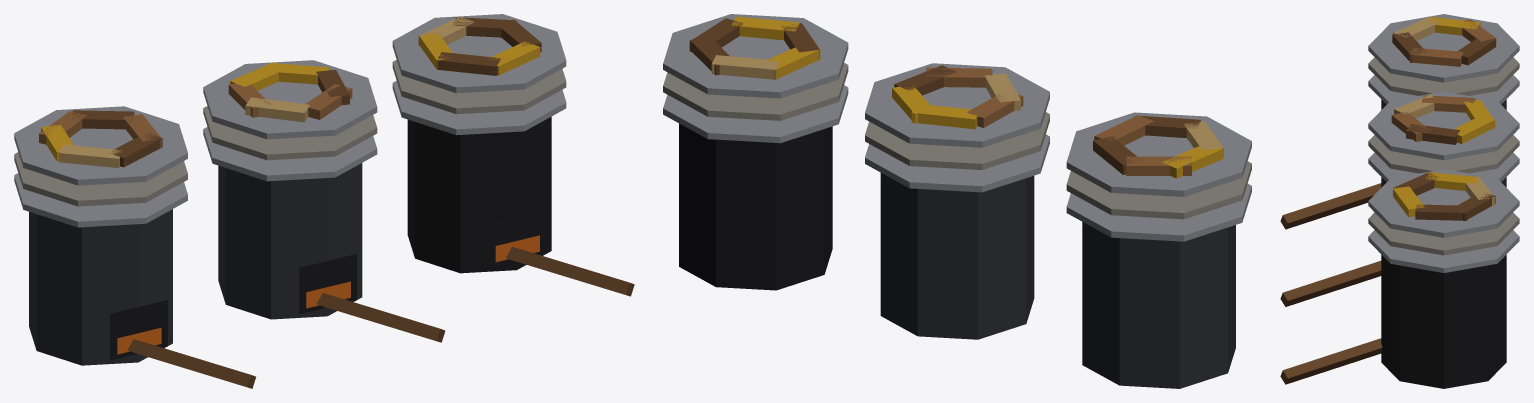
The model's file is prop_drum-kilns.6817873d7022.glb.
The picture shows the model from 3 angles, left to right: view 1: azimuth 30°, elevation 25°; view 2: azimuth 150°, elevation 25°; view 3: azimuth 270°, elevation 25°; orthographic projection. The views are drawn at different scales.
Visible parts, largest first — view 1: body; view 2: body; view 3: body.
Part boxes in pixels (x1,y1,x2,y2): body: (14,14,634,388); body: (663,14,1251,388); body: (1280,14,1519,388).
Bounding box in the file's own units: 2.4 × 0.865 × 1.11.
